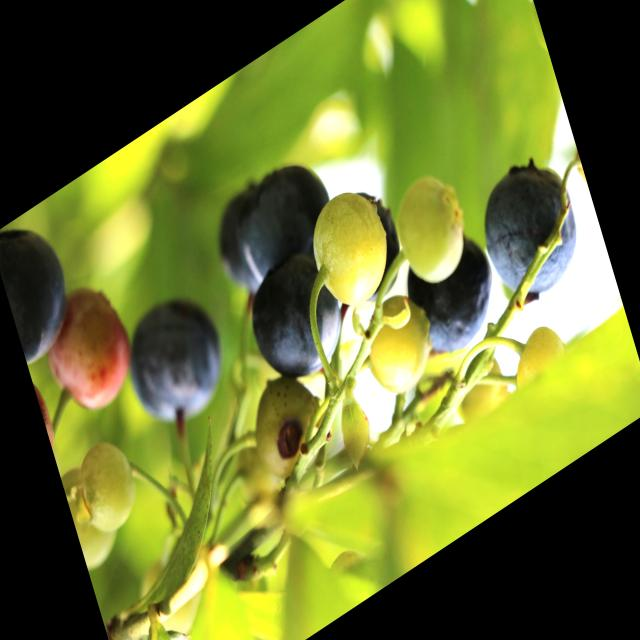blueberry: (472, 137, 594, 323), (117, 276, 236, 447), (239, 238, 356, 406), (398, 213, 510, 375), (230, 145, 344, 299), (0, 200, 84, 364), (332, 173, 417, 314), (206, 186, 272, 305)
blueberry-halfripe: (41, 273, 141, 426)
blueberry-unripe: (304, 180, 399, 326), (391, 162, 471, 296), (242, 367, 327, 492), (361, 293, 440, 409), (74, 428, 144, 538), (507, 314, 570, 401)
